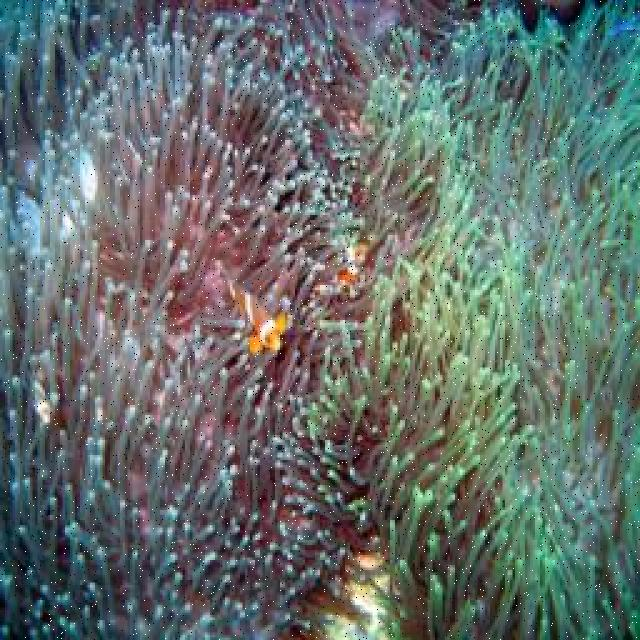fish: (215, 261, 287, 354)
reefs: (0, 0, 443, 637), (305, 1, 638, 638)
